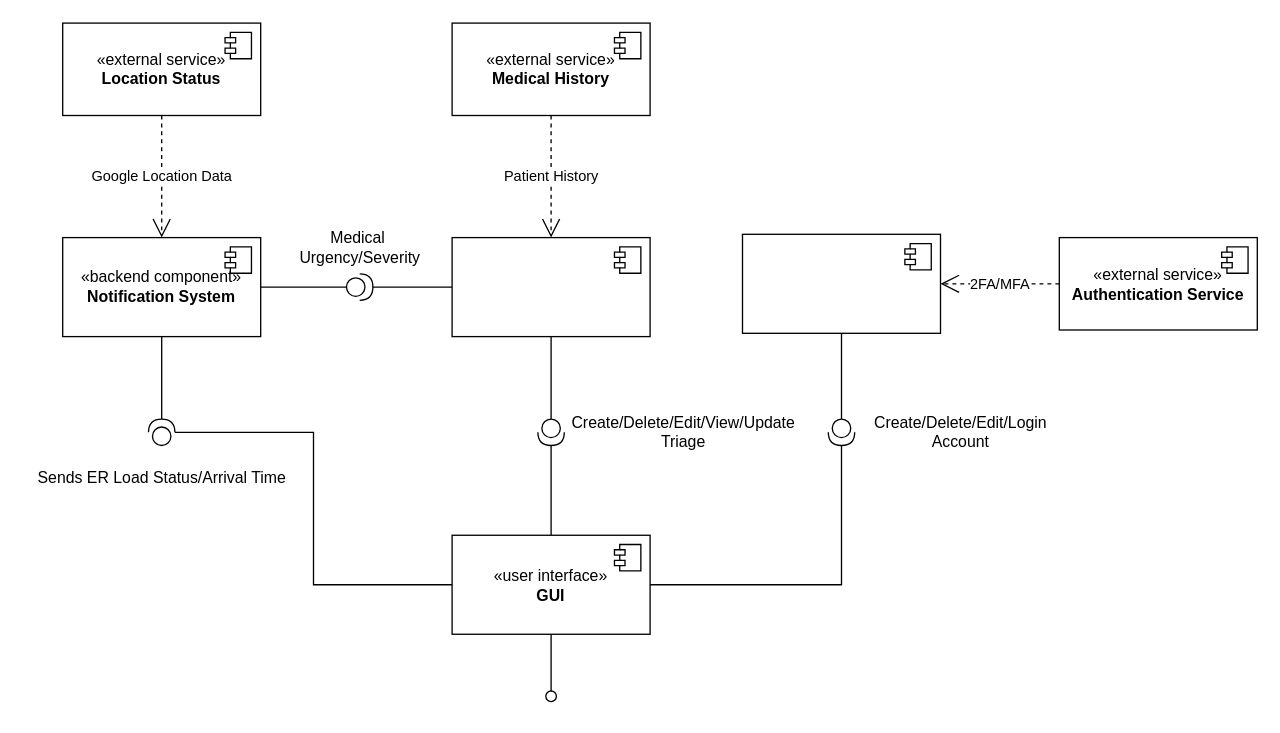
The diagram is 1280 pixels wide and 733 high, and some of its shapes have lost their labels. Each missing label, with the centre of its shape:
«user interface» Account Management: (840,283)
«user interface» Triage Management: (550,286)
